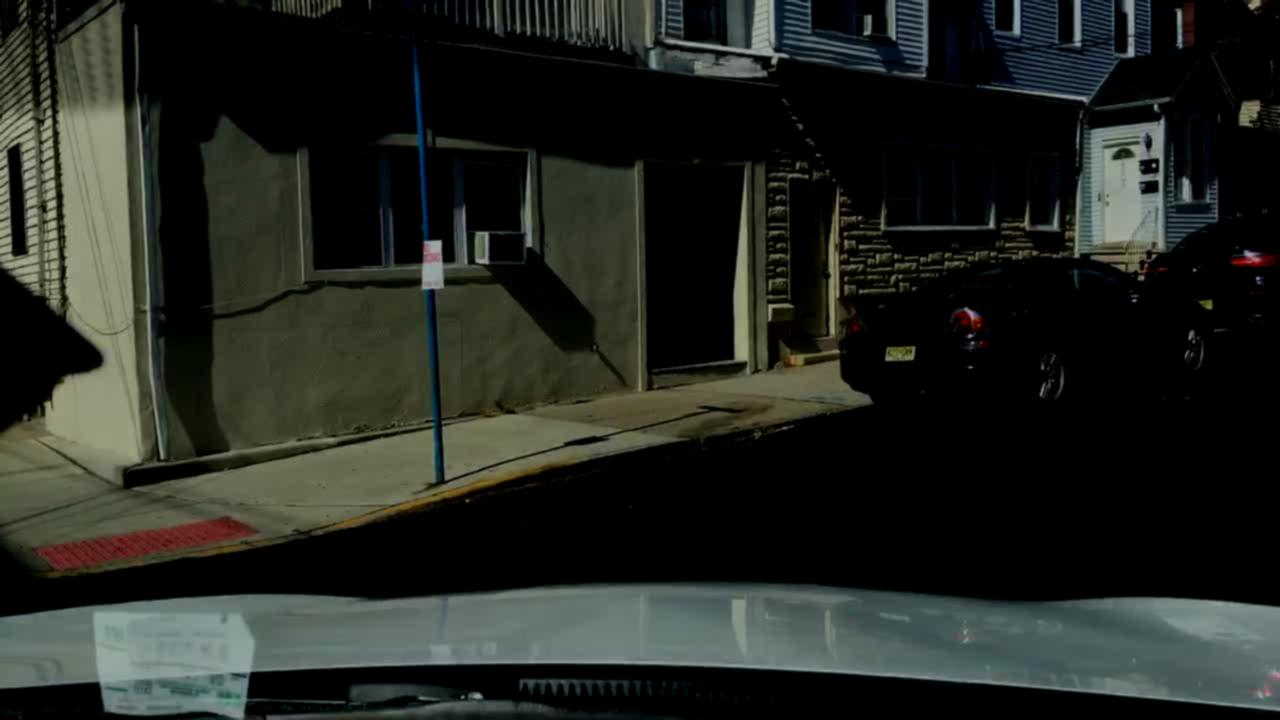Mitsubishi: (890, 308, 908, 330)
